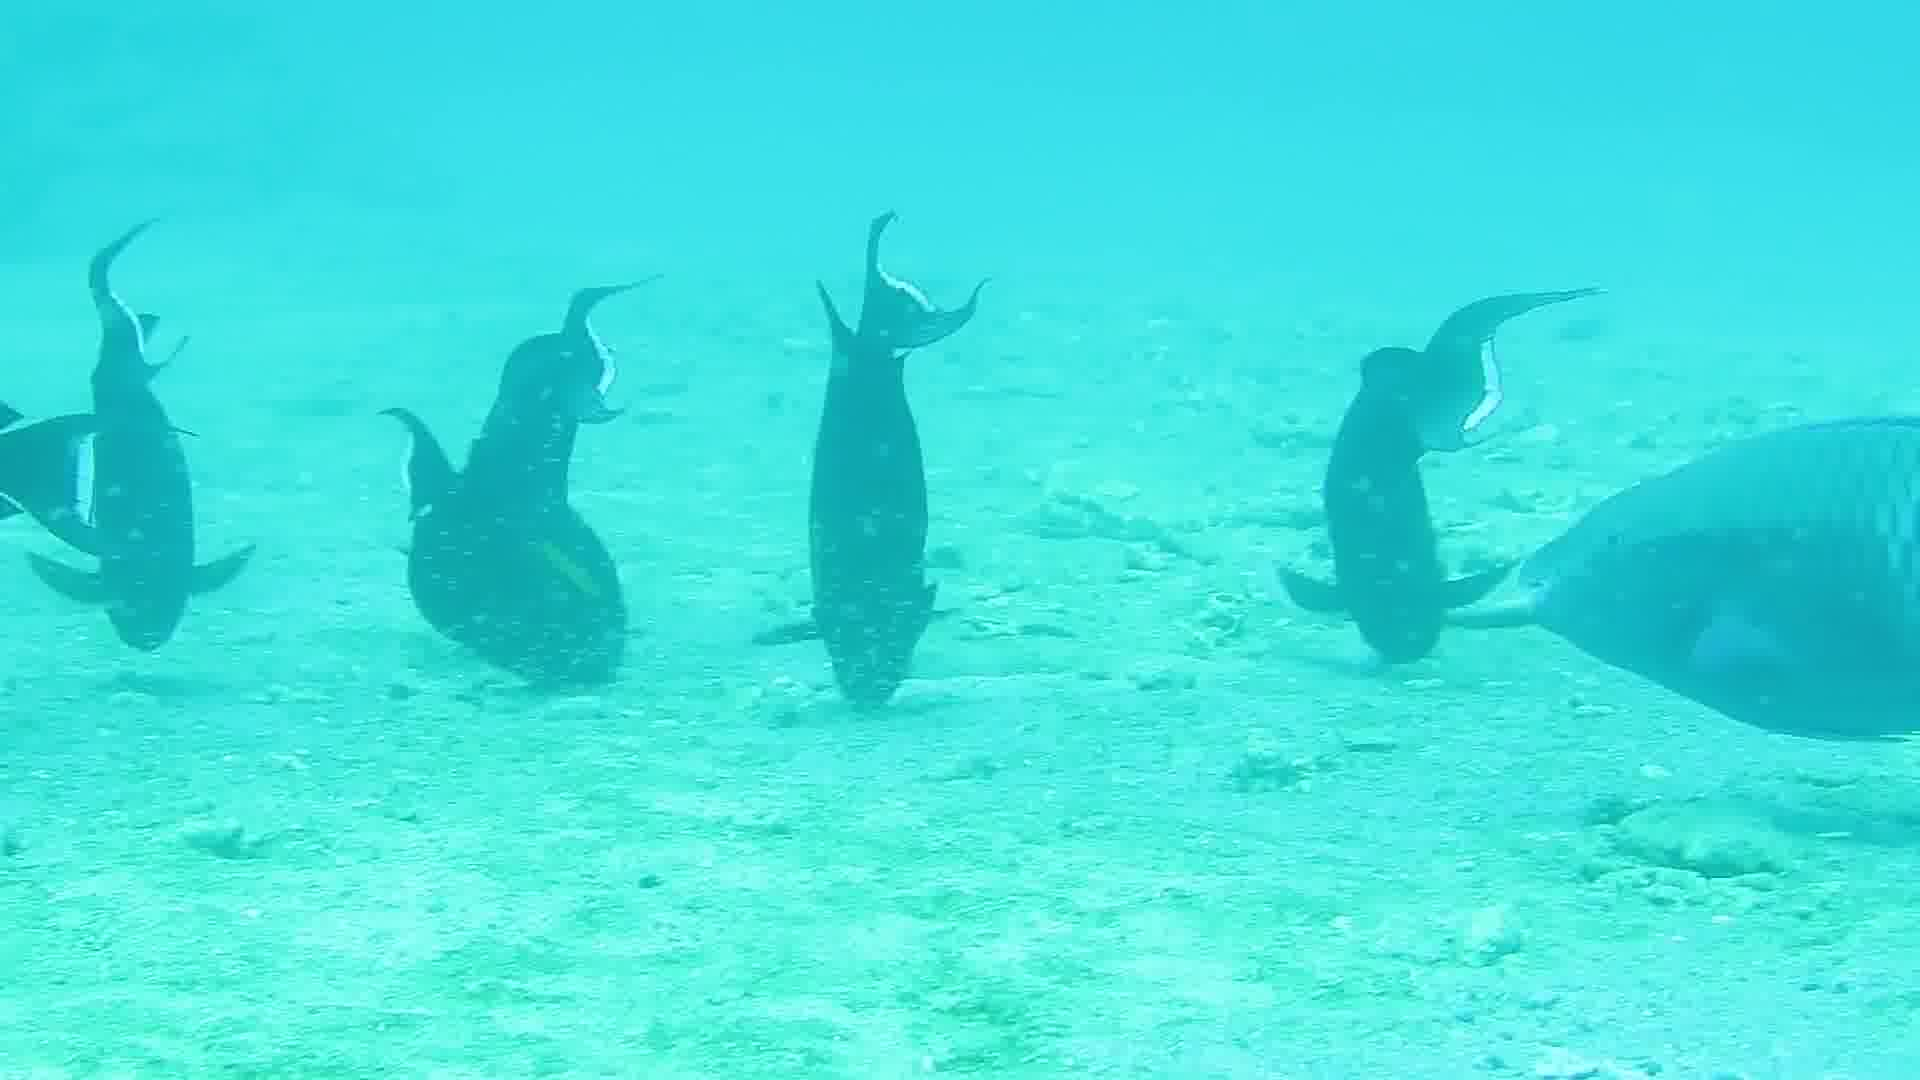Acanthurus olivaceus: (1516, 285, 1920, 810), (1296, 251, 1538, 723), (404, 247, 645, 717), (756, 245, 997, 716), (47, 215, 236, 676)
